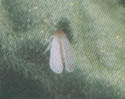whitefly: (44, 21, 78, 76)
